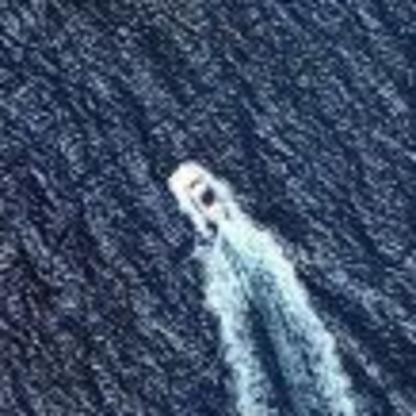ship: (162, 154, 235, 236)
